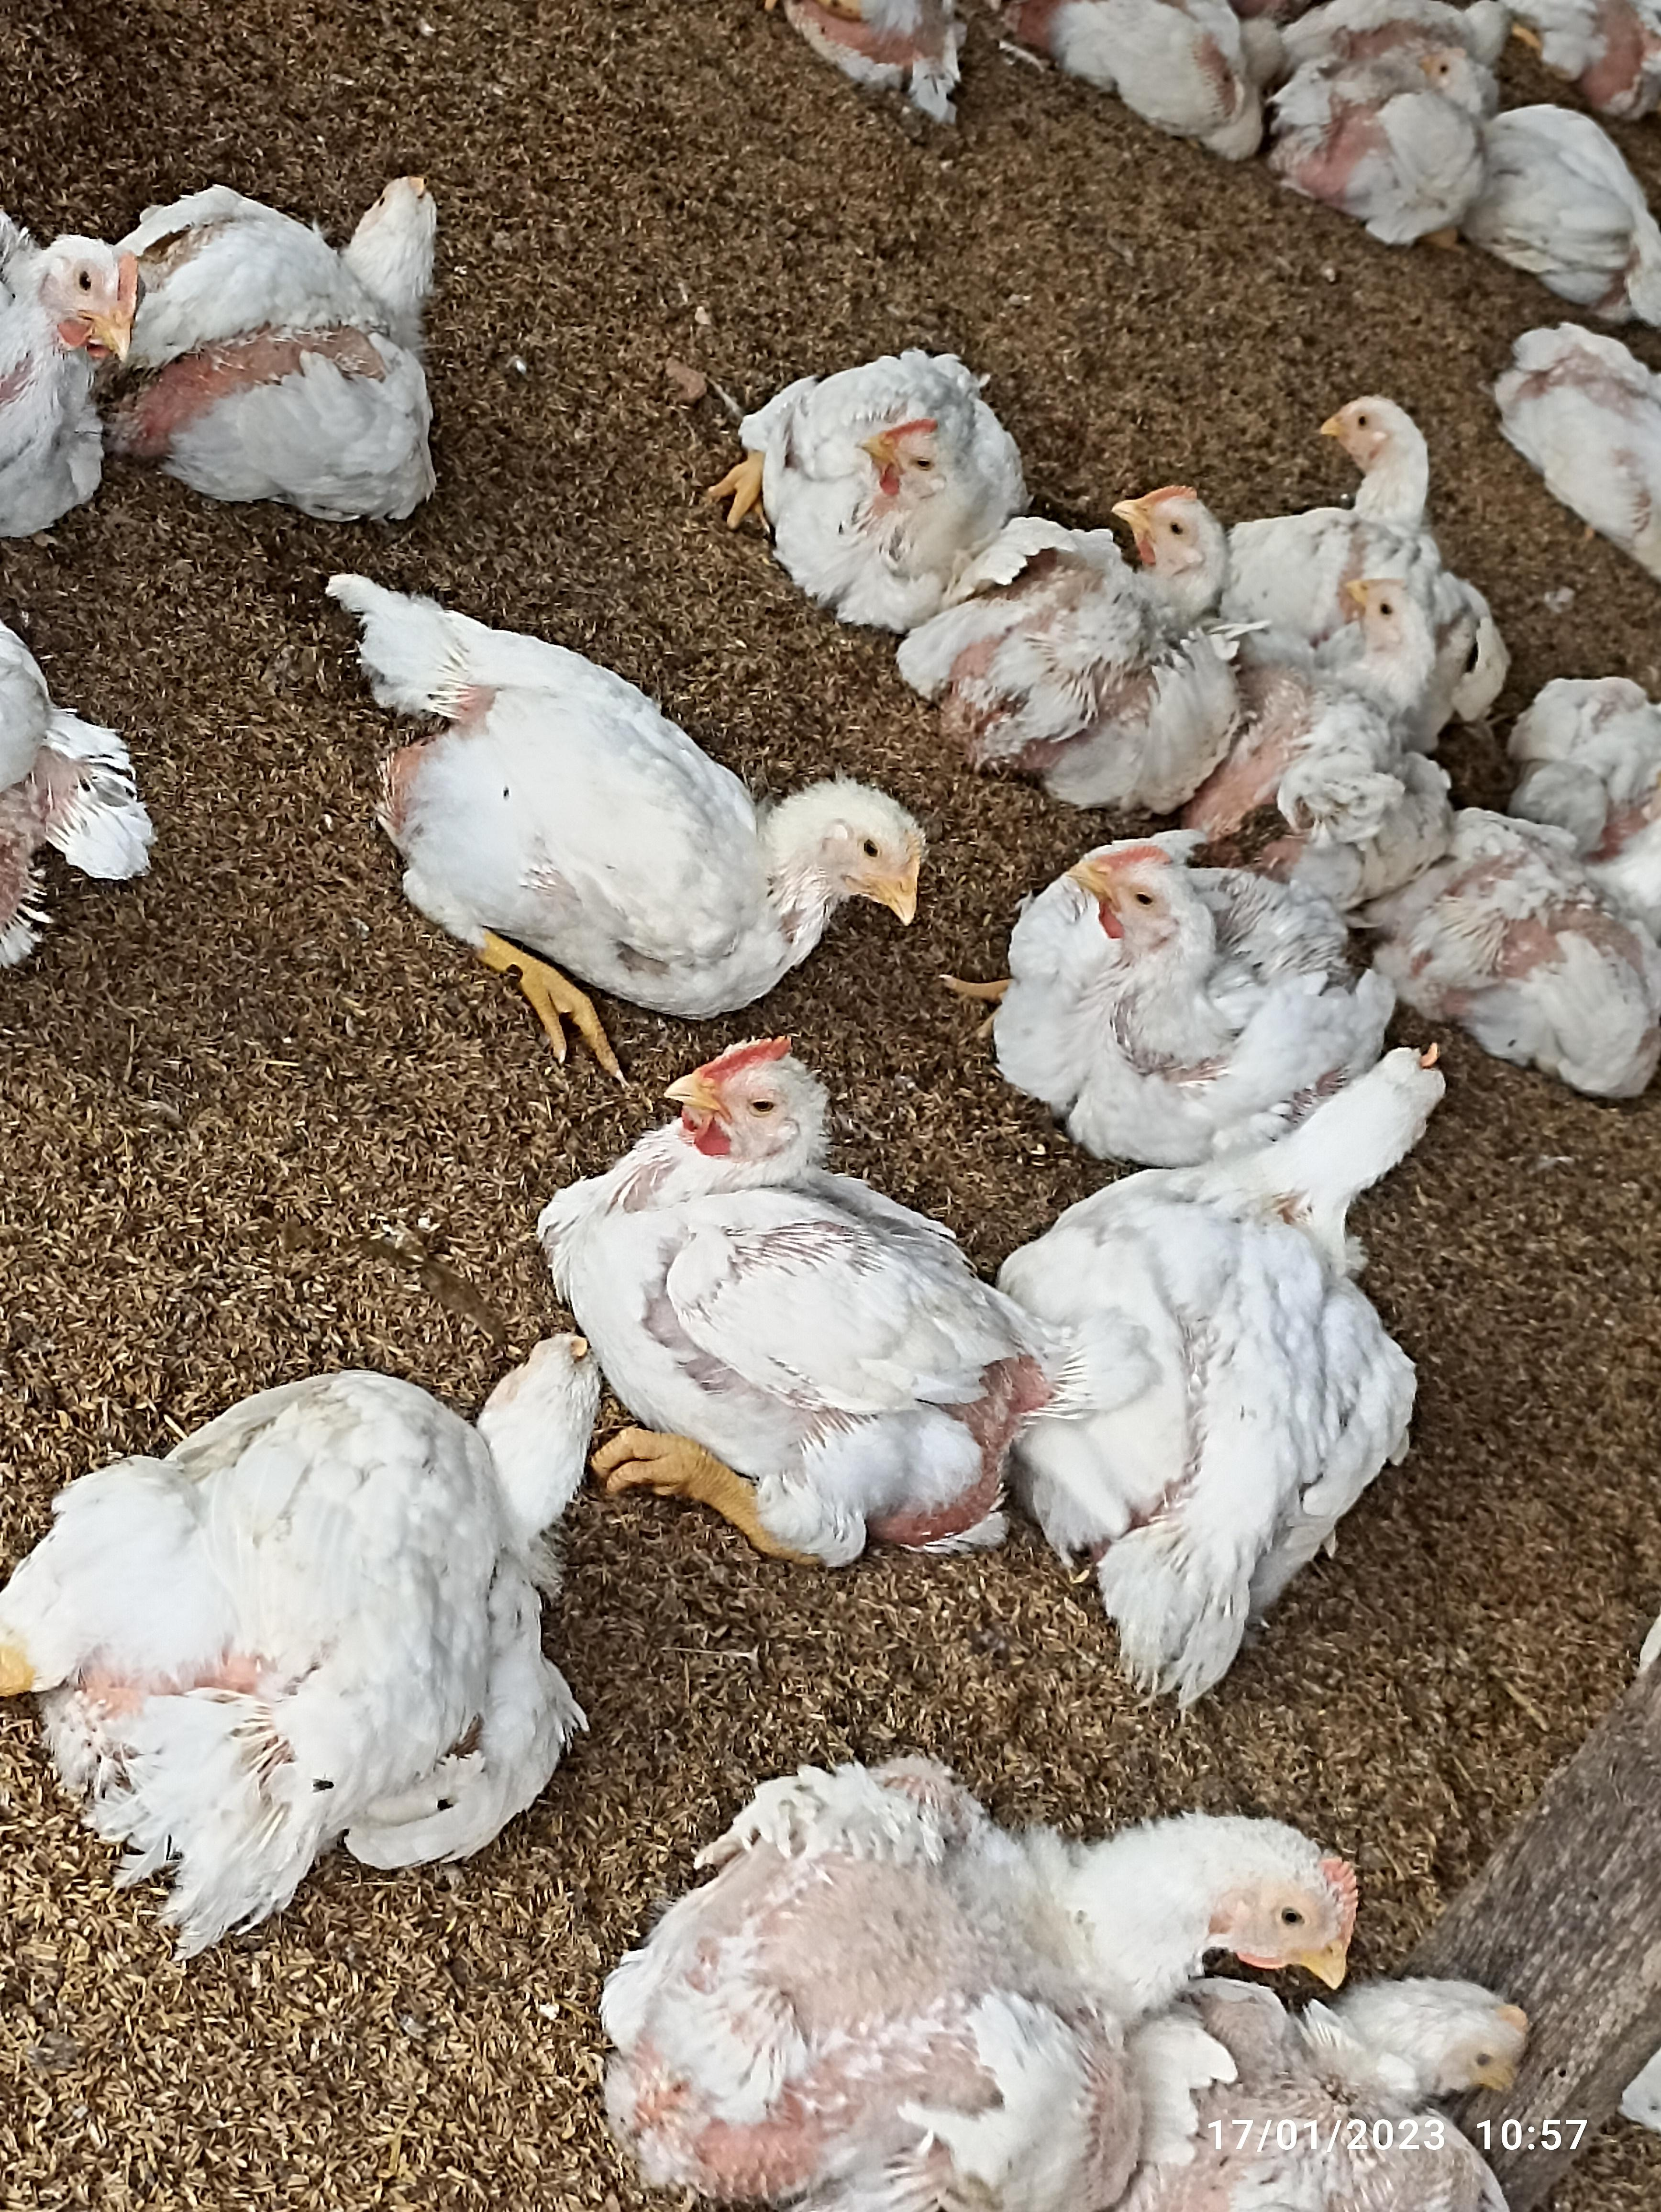Pollos: (0, 1317, 595, 1938), (623, 1758, 1361, 2210), (1007, 1038, 1450, 1690), (323, 570, 925, 998), (543, 1026, 1014, 1547), (147, 162, 452, 511), (1010, 836, 1354, 1118), (1157, 1987, 1537, 2212), (947, 478, 1237, 757), (1228, 570, 1450, 862), (738, 356, 991, 593), (1247, 389, 1457, 574), (1279, 49, 1497, 216)
